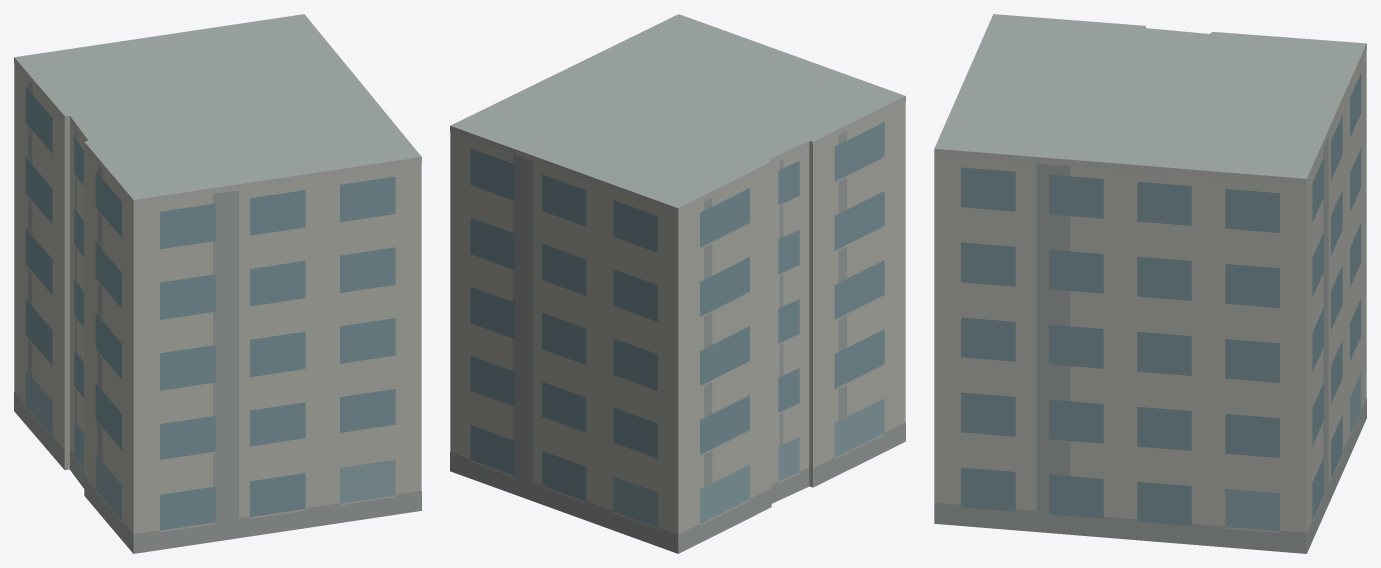
File: survey-upis-32536511.glb
The picture shows the model from 3 angles, left to right: view 1: azimuth 30°, elevation 25°; view 2: azimuth 150°, elevation 25°; view 3: azimuth 270°, elevation 25°; orthographic projection. The views are drawn at different scales.
Visible parts, largest first — view 1: survey-upis-32536511.tmp; view 2: survey-upis-32536511.tmp; view 3: survey-upis-32536511.tmp.
Boxes of the visible parts, x1,y1,x2,y2 form: survey-upis-32536511.tmp: (14,14,421,553); survey-upis-32536511.tmp: (450,14,905,553); survey-upis-32536511.tmp: (934,14,1366,553).
Size of the model in its own units: 13.3 by 14.1 by 14.75.
